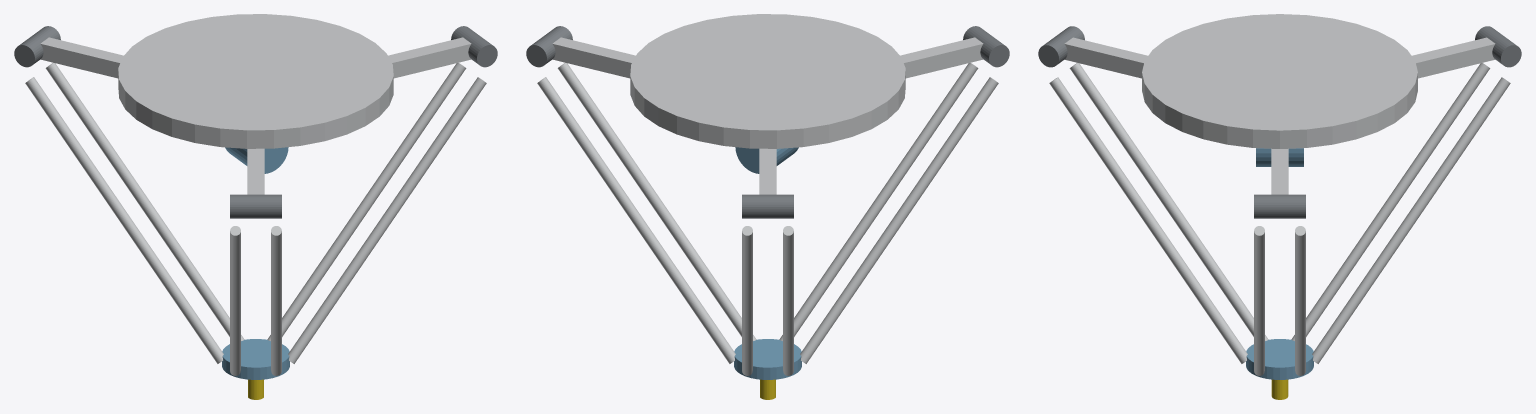
3 renders of one model, left to right at view 1: azimuth 30°, elevation 25°; view 2: azimuth 150°, elevation 25°; view 3: azimuth 270°, elevation 25°, orthographic.
Visible parts, largest first — view 1: base, lower1, lower2, lower3, upper2, upper1, upper3, platform; view 2: base, lower1, lower3, lower2, upper3, upper1, upper2, platform; view 3: base, lower2, lower3, lower1, upper2, upper3, upper1, platform.
Boxes of the visible parts, x1,y1,x2,y2 form: base: [118, 14, 393, 173]; lower1: [267, 63, 486, 363]; lower2: [25, 63, 244, 363]; lower3: [230, 226, 281, 375]; upper2: [14, 26, 123, 78]; upper1: [388, 26, 497, 78]; upper3: [230, 148, 281, 218]; platform: [222, 339, 289, 399]; base: [630, 14, 905, 173]; lower1: [537, 63, 756, 363]; lower3: [779, 63, 998, 363]; lower2: [742, 226, 793, 375]; upper3: [900, 26, 1009, 78]; upper1: [526, 26, 635, 78]; upper2: [742, 148, 793, 218]; platform: [734, 339, 801, 399]; base: [1142, 14, 1417, 166]; lower2: [1291, 63, 1510, 363]; lower3: [1049, 63, 1268, 363]; lower1: [1254, 226, 1305, 375]; upper2: [1412, 26, 1521, 78]; upper3: [1038, 26, 1147, 78]; upper1: [1254, 148, 1305, 218]; platform: [1246, 339, 1313, 399].
Bounding box in the file's own units: 0.6143 × 0.525 × 0.7093.
